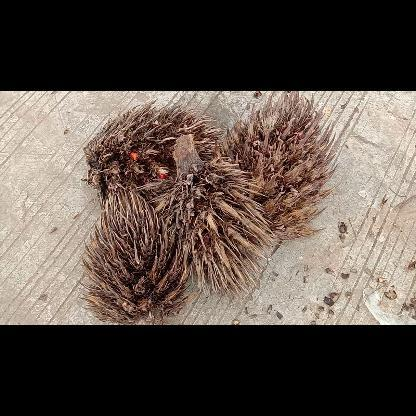Janjang kosong: (155, 135, 277, 292), (221, 90, 336, 240), (65, 189, 191, 323), (77, 98, 221, 202)
